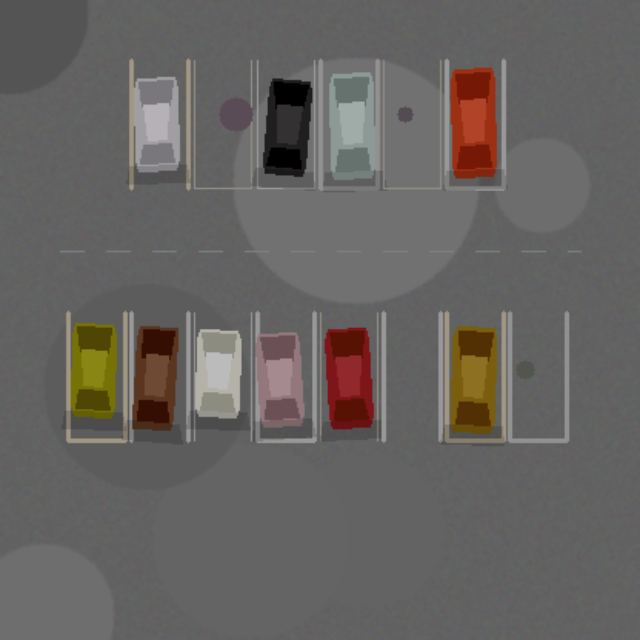space-empty: (194, 60, 251, 188), (383, 60, 440, 188), (383, 312, 440, 440), (509, 312, 566, 440)
space-occupied: (131, 60, 188, 188), (257, 60, 314, 188), (320, 60, 377, 188), (446, 60, 503, 188), (68, 312, 125, 440), (131, 312, 188, 440), (194, 312, 251, 440), (257, 312, 314, 440), (320, 312, 377, 440), (446, 312, 503, 440)
